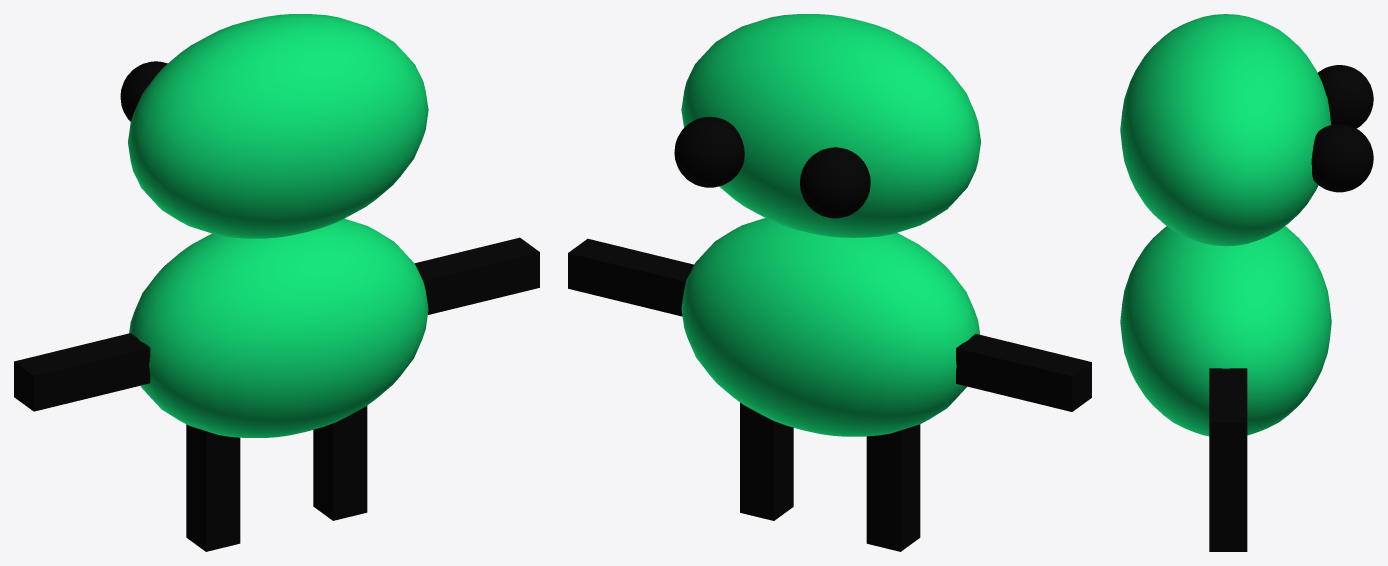
Rendered from Alien.fbx.
The picture shows the model from 3 angles, left to right: view 1: azimuth 30°, elevation 25°; view 2: azimuth 150°, elevation 25°; view 3: azimuth 270°, elevation 25°; orthographic projection. The views are drawn at different scales.
Visible parts, largest first — view 1: Head, MainBody, RightArm, RightLeg, LeftArm, LeftLeg; view 2: Head, MainBody, RightArm, LeftArm, RightLeg, LeftLeg; view 3: Head, MainBody, LeftLeg, LeftArm.
Boxes of the visible parts, x1,y1,x2,y2 form: Head: (120,14,428,238); MainBody: (129,218,428,437); RightArm: (14,333,150,411); RightLeg: (186,424,240,551); LeftArm: (415,237,539,314); LeftLeg: (313,405,367,520); Head: (674,14,980,237); MainBody: (681,218,980,436); RightArm: (956,334,1091,411); LeftArm: (568,238,693,316); RightLeg: (866,424,920,551); LeftLeg: (740,402,793,520); Head: (1120,14,1373,246); MainBody: (1120,226,1331,436); LeftLeg: (1209,457,1247,551); LeftArm: (1209,368,1247,457).
Bounding box in the file's own units: 531 × 501 × 240.
